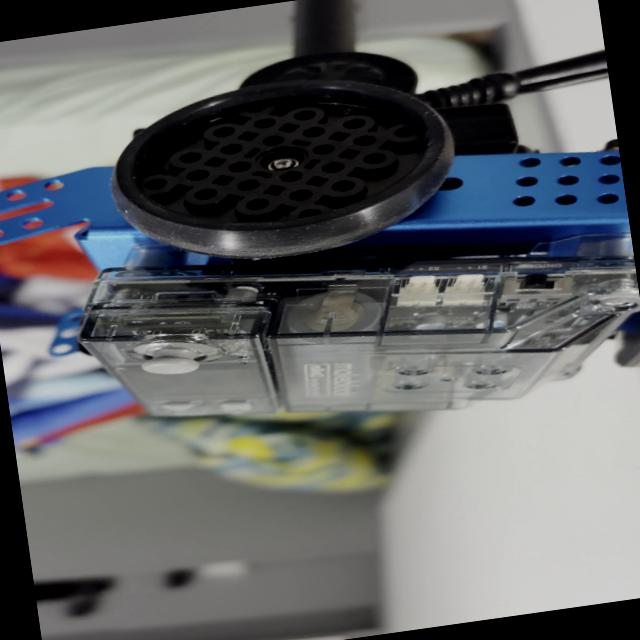mbot-detection: (0, 26, 640, 480)
